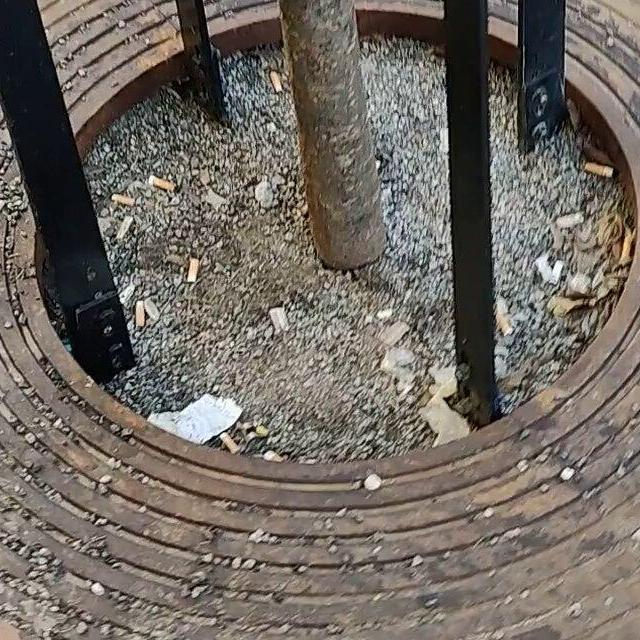Cigarette Butt: (493, 307, 511, 341), (182, 254, 201, 283), (586, 162, 619, 178), (133, 297, 147, 333), (219, 429, 233, 453), (149, 176, 175, 188), (272, 67, 284, 91), (115, 191, 137, 202)
